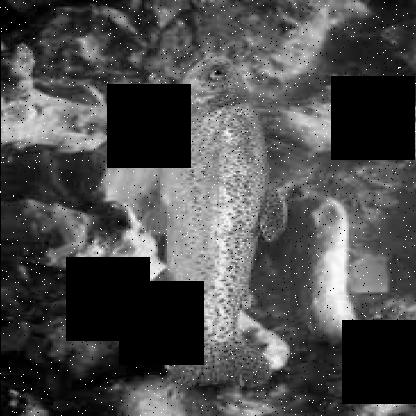fish: (143, 52, 287, 384)
